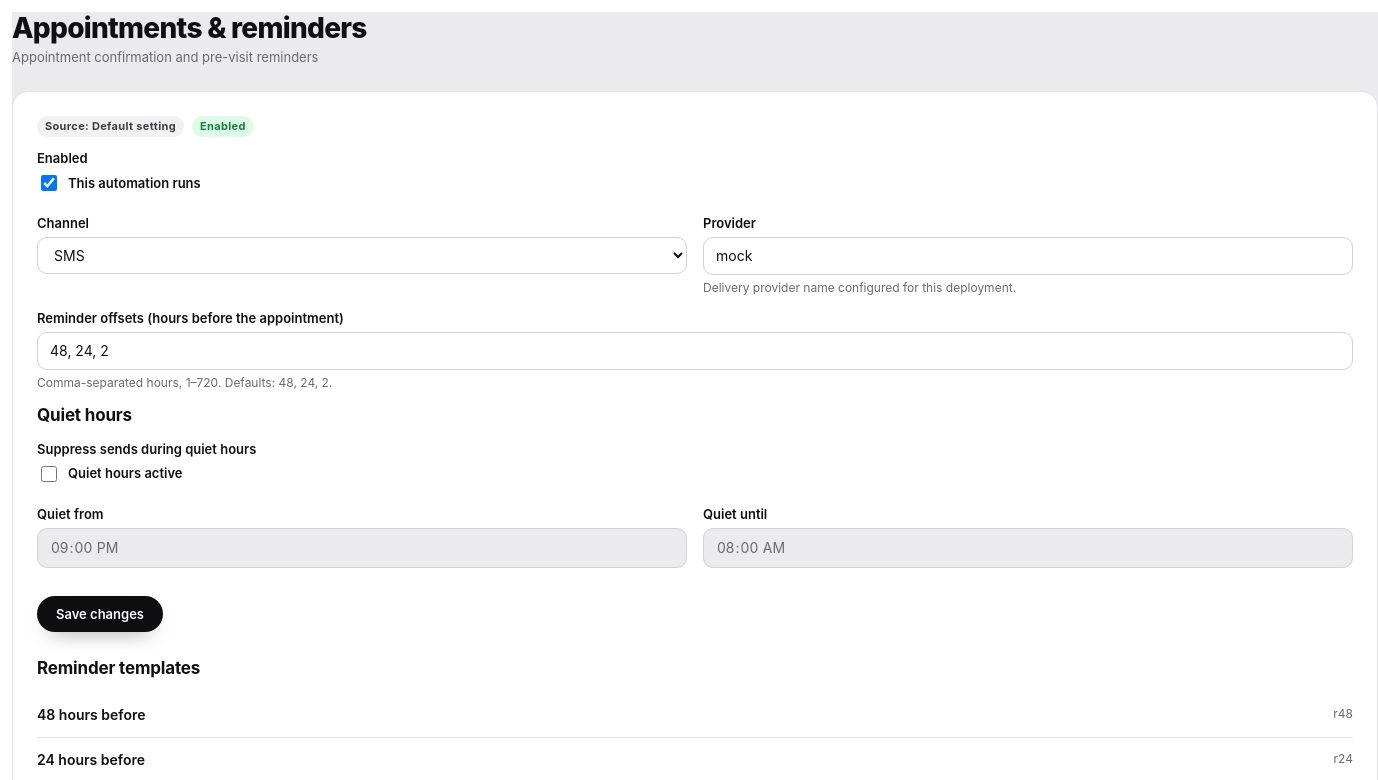
Test: AppointmentSettingsPage › saves parsed reminder offsets
Replace the text in the field labelled "Reminder offsets (hours before the appointment)" with "24, 6, 6": [695, 351] box 37,332 -> 1353,370
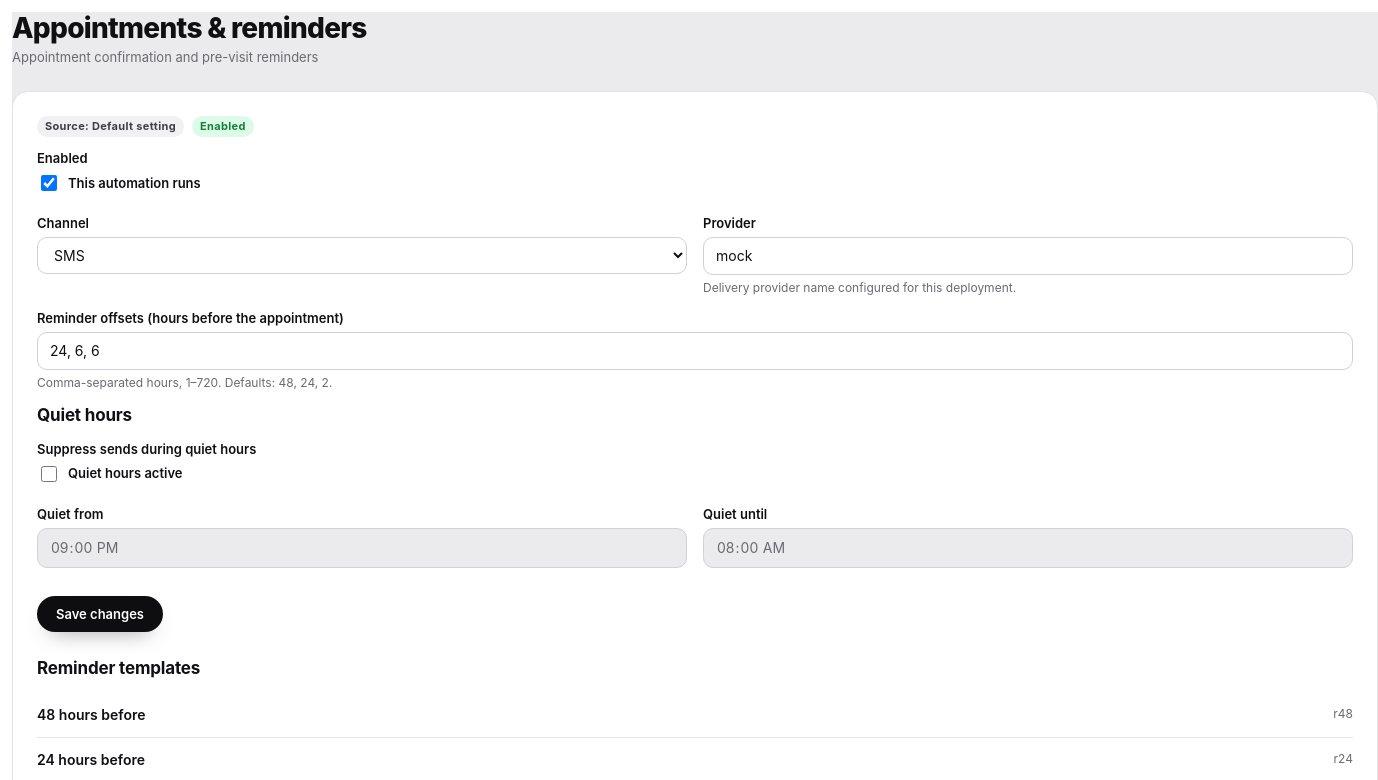
Click the button "Save changes": [100, 614] box 37,596 -> 163,632
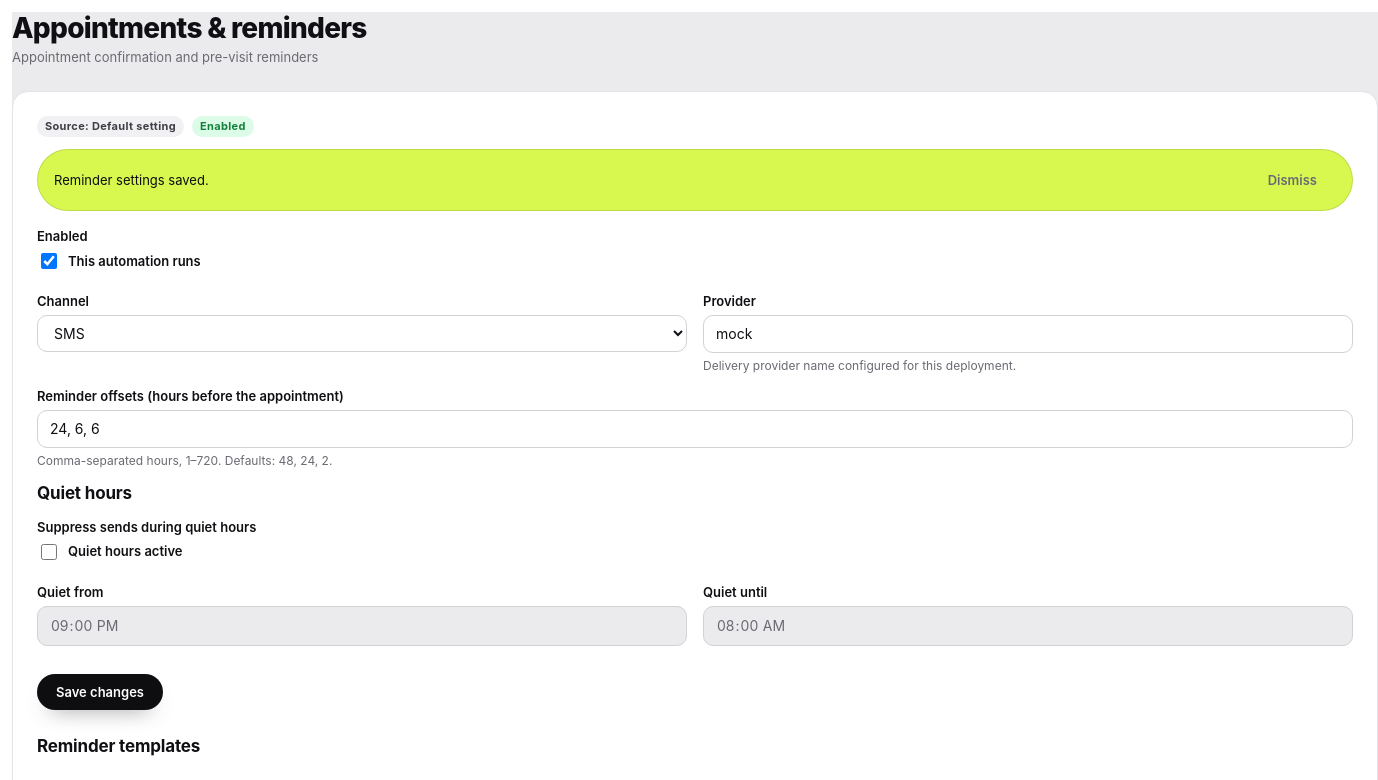
Result: the text "Reminder settings saved." is shown at 54,171 -> 209,190
